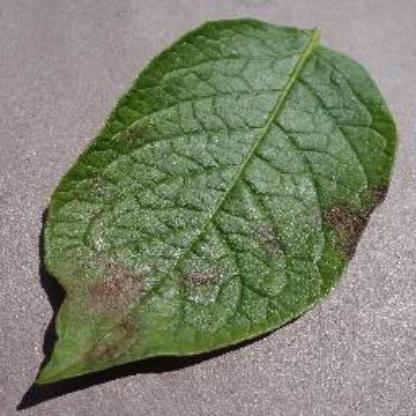Late-Blight: (30, 16, 402, 388)
